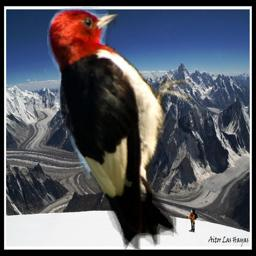Woodpecker: (46, 7, 195, 253)
